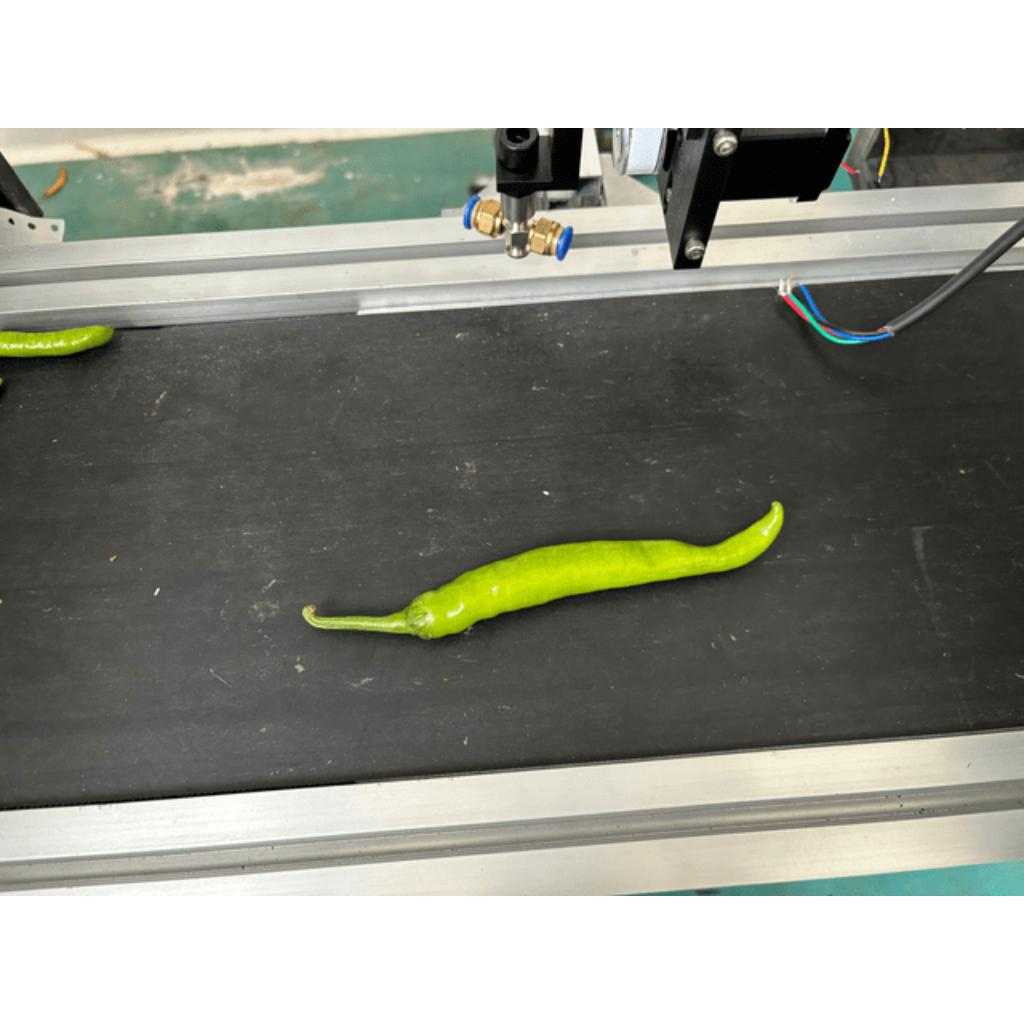chili: (397, 496, 788, 643)
